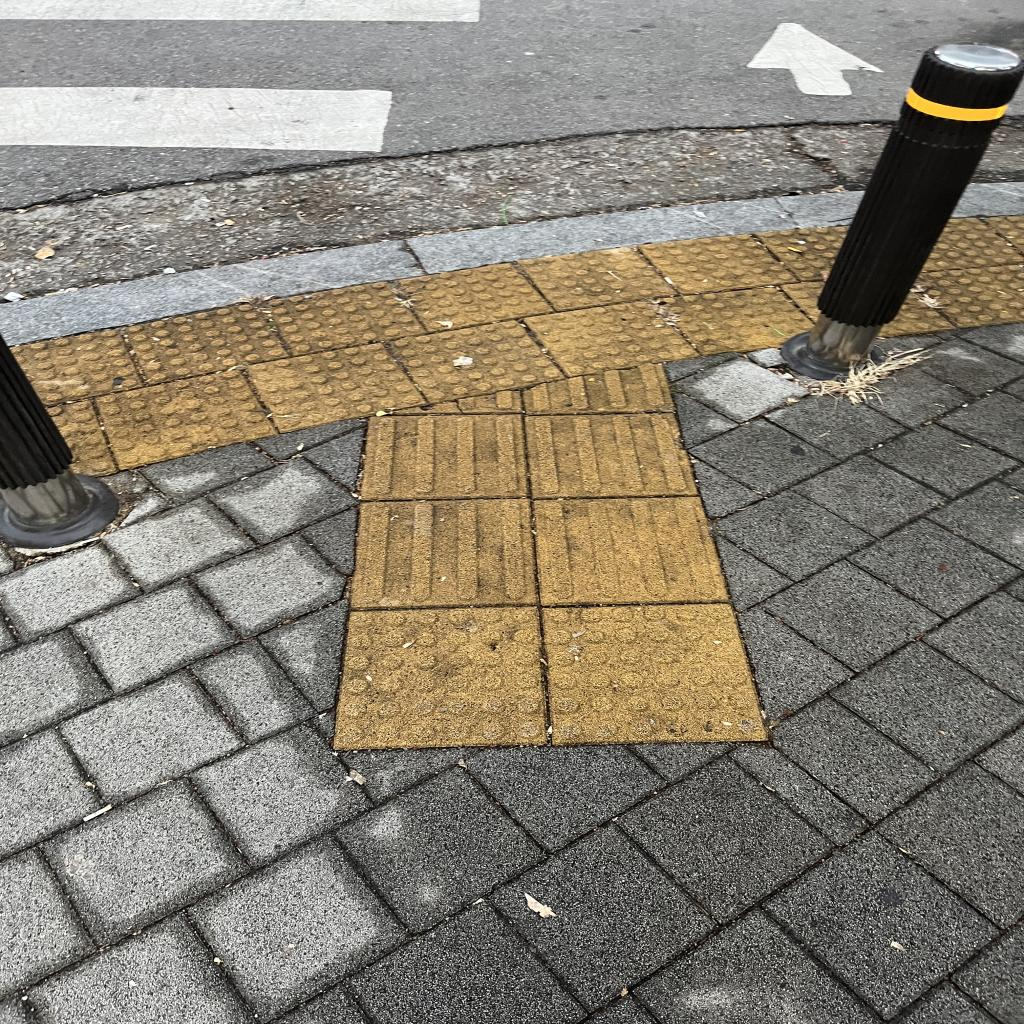Stop block normal: (350, 613, 538, 742), (550, 607, 739, 734), (248, 334, 425, 436), (392, 311, 564, 406), (526, 294, 697, 380)
Straight block normal: (350, 499, 536, 606), (540, 501, 704, 599), (370, 416, 522, 495), (530, 417, 677, 495)
